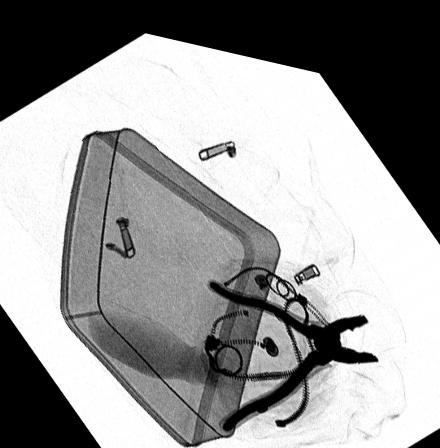Pliers: (205, 268, 381, 424)
